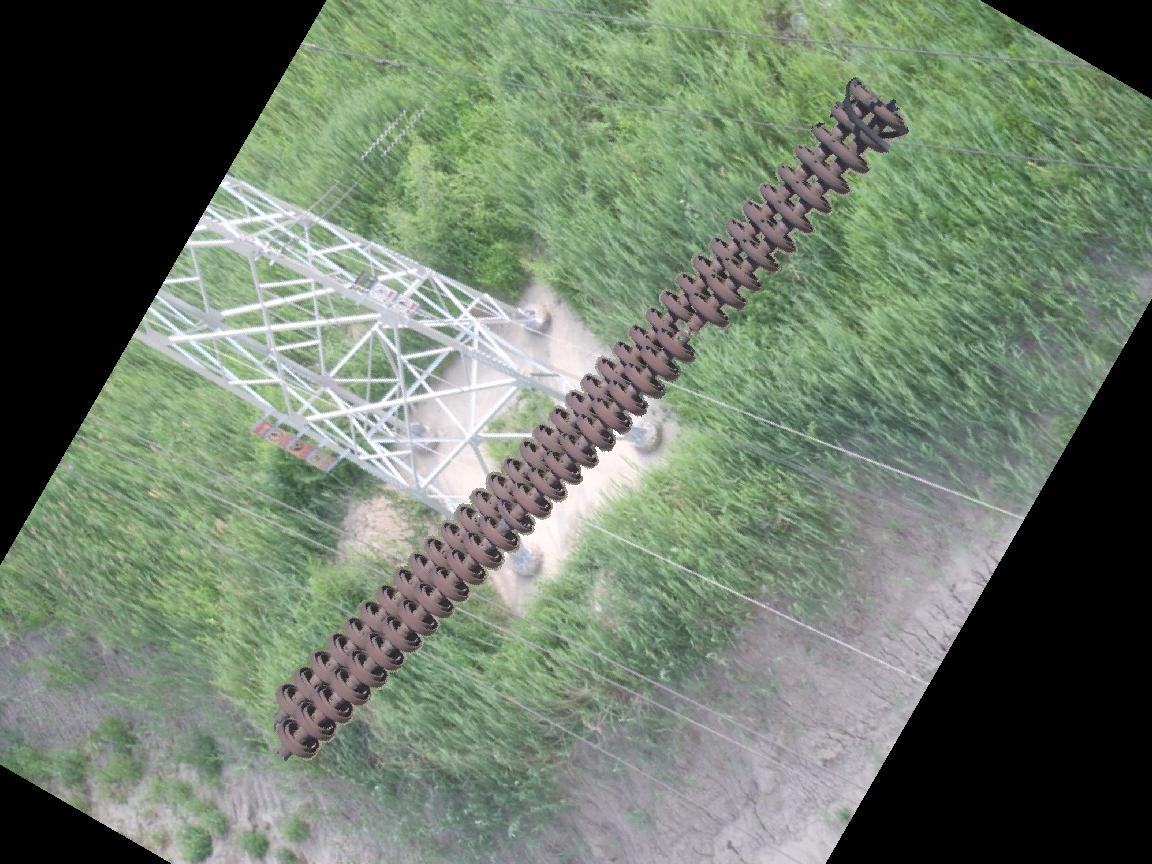insulator: (263, 77, 904, 765)
insulator_stringdrop: (652, 292, 731, 363)
